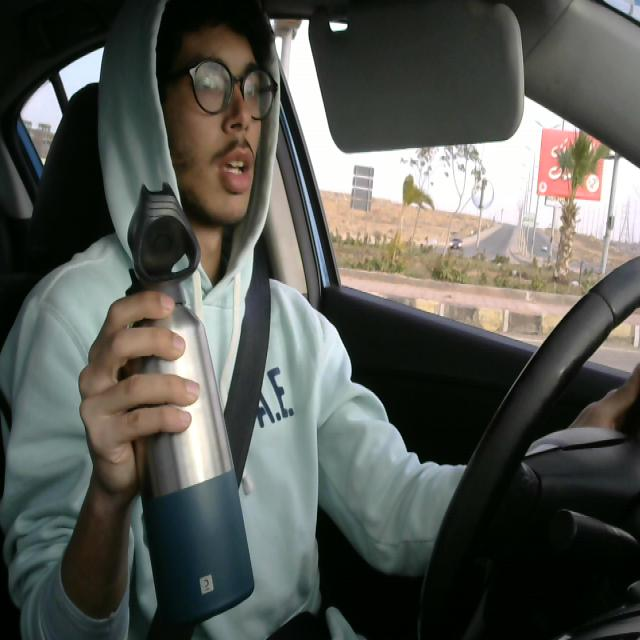drinking: (107, 179, 259, 626)
